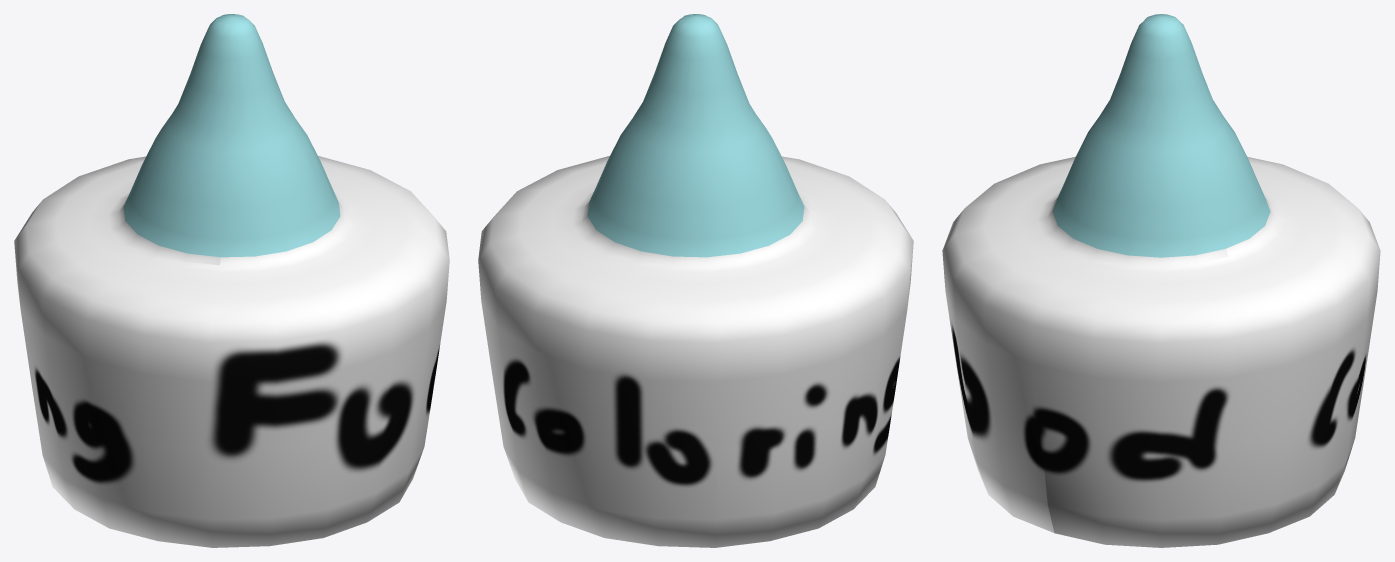
The model's file is FoodColoring.fbx.
3 renders of one model, left to right at view 1: azimuth 30°, elevation 25°; view 2: azimuth 150°, elevation 25°; view 3: azimuth 270°, elevation 25°, orthographic.
Parts seen in each view (by area): view 1: FoodColoring; view 2: FoodColoring; view 3: FoodColoring.
Boxes of the visible parts, x1,y1,x2,y2 form: FoodColoring: [14, 14, 449, 547]; FoodColoring: [478, 14, 913, 547]; FoodColoring: [942, 14, 1380, 547].
Size of the model in its own units: 8.12 by 8.13 by 9.43.
2 materials, 1 textured.
